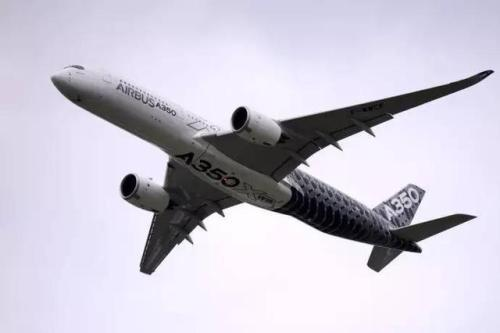airplane: (47, 57, 495, 276)
